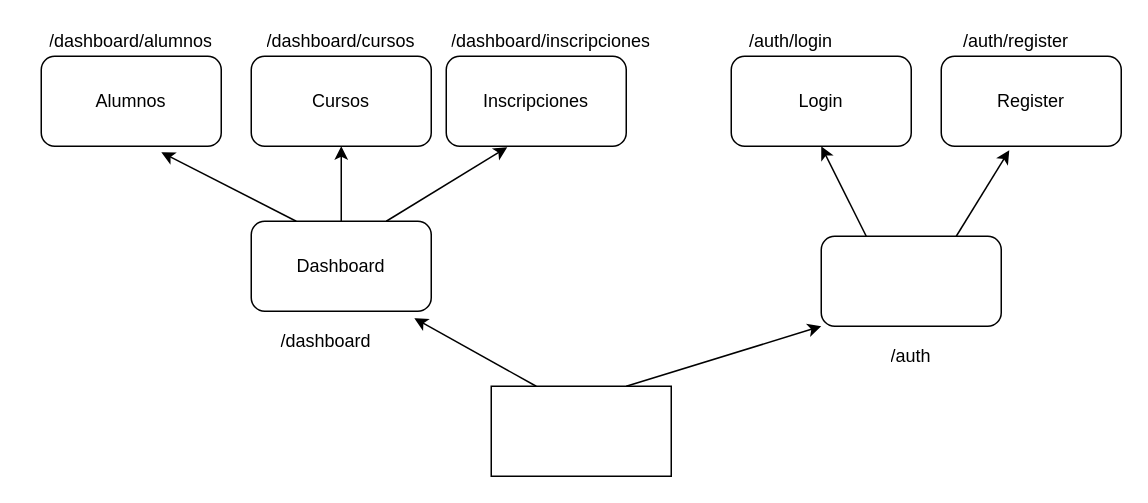
This 1148x503 diagram has some shape labels left out. Here are the shapes that lost their labels. From the top down, the centre of each, then its label:
At pixel 910 280: "Auth".
At pixel 580 430: "App".
